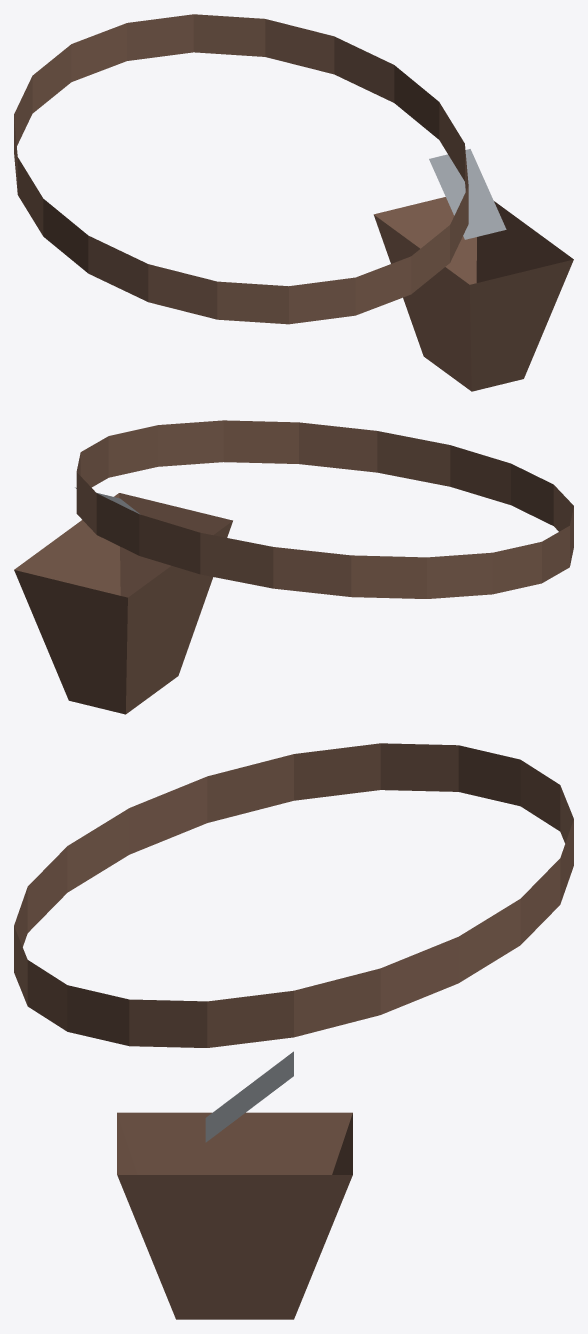
File: han_holster_vest.glb
3 views of the same model, one above another, from view 1: azimuth 30°, elevation 25°; view 2: azimuth 150°, elevation 25°; view 3: azimuth 270°, elevation 25° (orthographic). The views are drawn at different scales.
Visible parts, largest first — view 1: han_holster_vest; view 2: han_holster_vest; view 3: han_holster_vest.
Boxes of the visible parts, bbox=[...] form: han_holster_vest: bbox=[14, 14, 573, 391]; han_holster_vest: bbox=[14, 420, 573, 714]; han_holster_vest: bbox=[14, 743, 573, 1319].
Bounding box in the file's own units: 0.44 × 0.27 × 0.38.
